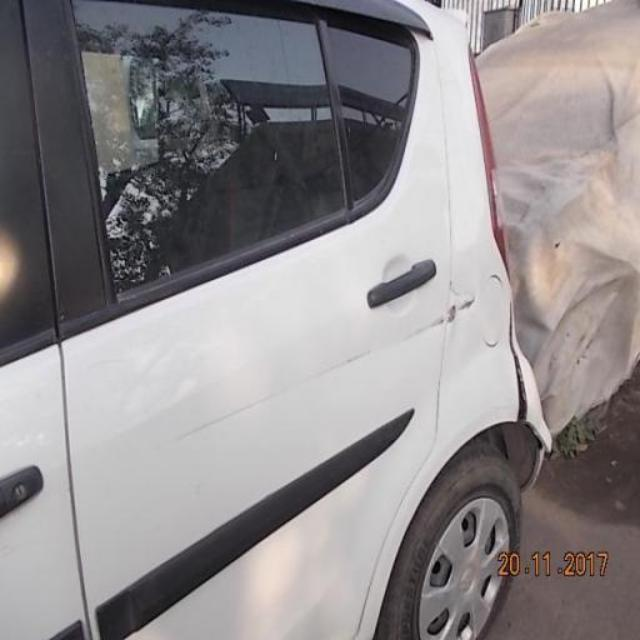dislocated part: (507, 302, 532, 421)
scratch: (143, 284, 479, 455)
